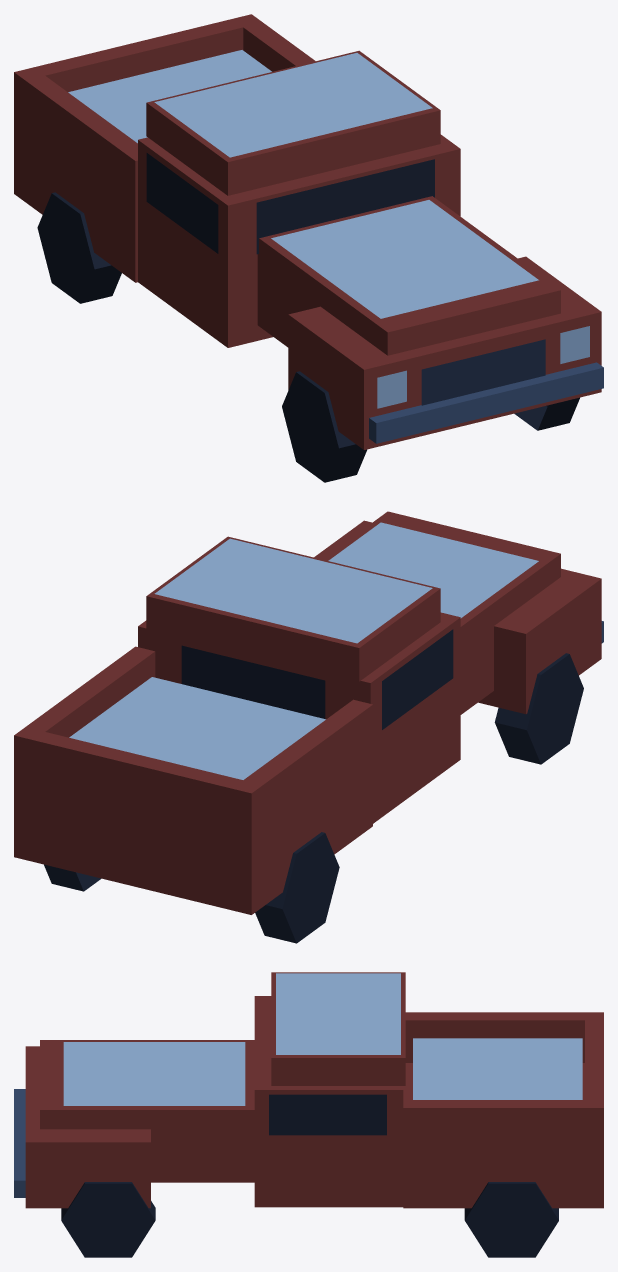
Rendered from pickup_truck.glb.
3 views of the same model, one above another, from view 1: azimuth 30°, elevation 25°; view 2: azimuth 150°, elevation 25°; view 3: azimuth 270°, elevation 25° (orthographic). The views are drawn at different scales.
Parts seen in each view (by area): view 1: Pickup_Truck; view 2: Pickup_Truck; view 3: Pickup_Truck.
Boxes of the visible parts, bbox=[...] form: Pickup_Truck: bbox=[14, 14, 603, 482]; Pickup_Truck: bbox=[14, 511, 603, 943]; Pickup_Truck: bbox=[14, 972, 603, 1257].
Size of the model in its own units: 1.98 by 1.82 by 5.
